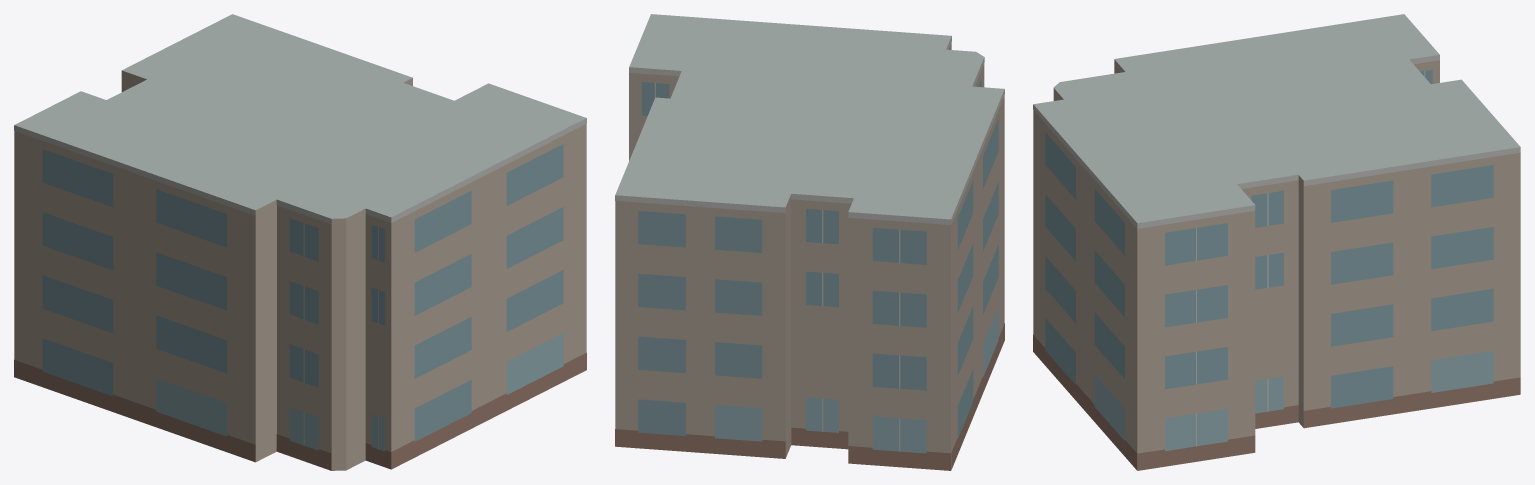
File: survey-upis-32992657.glb
3 renders of one model, left to right at view 1: azimuth 30°, elevation 25°; view 2: azimuth 150°, elevation 25°; view 3: azimuth 270°, elevation 25°, orthographic.
Parts seen in each view (by area): view 1: survey-upis-32992657.tmp; view 2: survey-upis-32992657.tmp; view 3: survey-upis-32992657.tmp.
Boxes of the visible parts, bbox=[...] form: survey-upis-32992657.tmp: bbox=[14, 14, 586, 470]; survey-upis-32992657.tmp: bbox=[615, 14, 1004, 470]; survey-upis-32992657.tmp: bbox=[1033, 14, 1520, 470].
Size of the model in its own units: 19.77 by 10.9 by 19.46.
